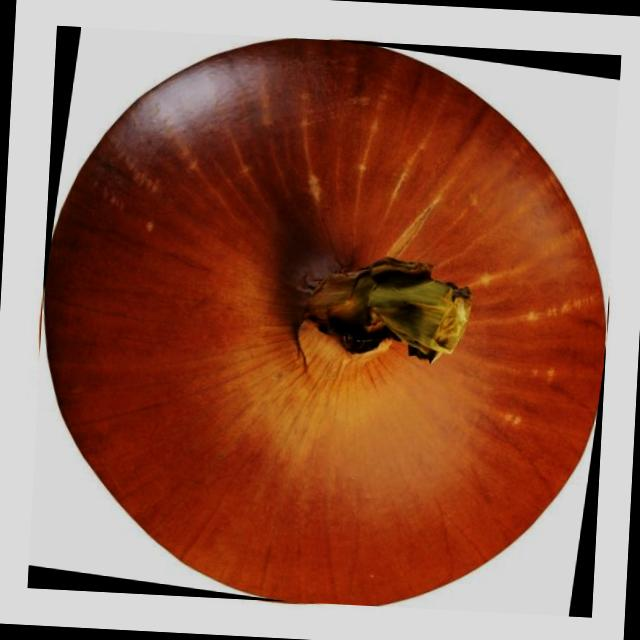healthy: (44, 38, 606, 605)
